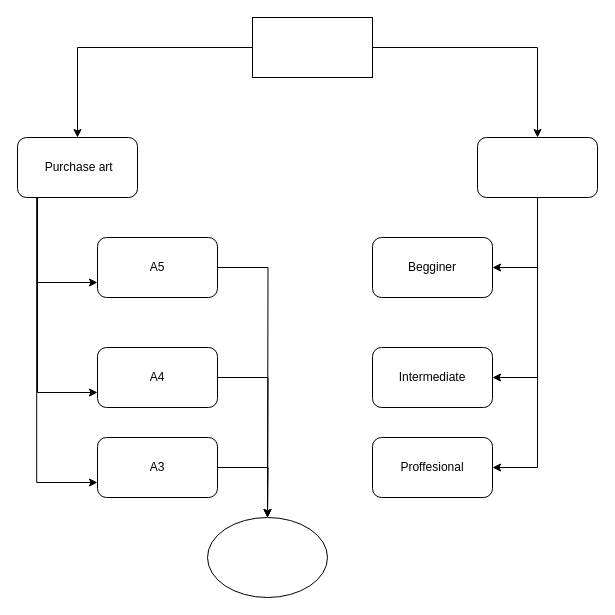
Some shapes in this 615 by 615 pixel diagram are drawn without their labels. Each missing label, with the centre of its shape:
Course: the point at 537,167
Customer: the point at 312,47
Orders: the point at 267,557
